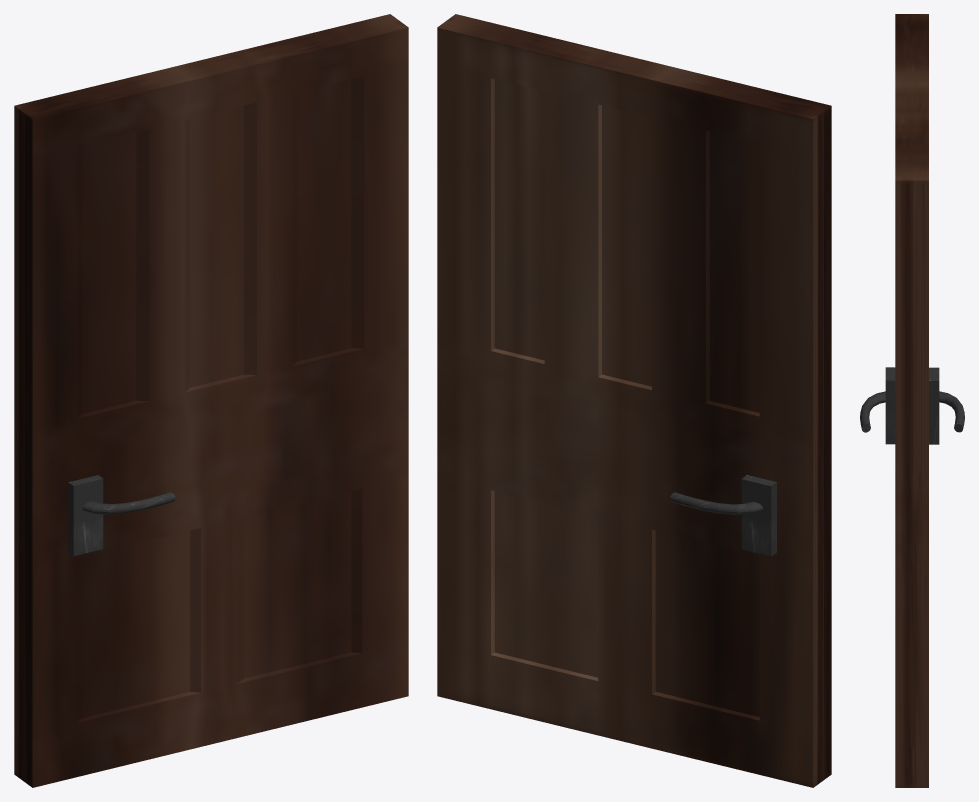
The model's file is Puerta.obj.
3 views of the same model, side by side, from view 1: azimuth 30°, elevation 25°; view 2: azimuth 150°, elevation 25°; view 3: azimuth 270°, elevation 25° (orthographic). The views are drawn at different scales.
Visible parts, largest first — view 1: PuertaFallo_Cube.002_Cube.008, Cube.004_Cube.008, Cylinder_Cylinder.008; view 2: PuertaFallo_Cube.002_Cube.008, Cube.005_Cube.008, Cylinder.001_Cylinder.008; view 3: PuertaFallo_Cube.002_Cube.008, Cube.005_Cube.008, Cube.004_Cube.008, Cylinder.001_Cylinder.008, Cylinder_Cylinder.008.
Boxes of the visible parts, bbox=[...] form: PuertaFallo_Cube.002_Cube.008: bbox=[14, 14, 408, 787]; Cube.004_Cube.008: bbox=[68, 475, 103, 556]; Cylinder_Cylinder.008: bbox=[82, 492, 175, 514]; PuertaFallo_Cube.002_Cube.008: bbox=[437, 14, 831, 787]; Cube.005_Cube.008: bbox=[741, 475, 776, 556]; Cylinder.001_Cylinder.008: bbox=[670, 492, 763, 514]; PuertaFallo_Cube.002_Cube.008: bbox=[895, 14, 928, 787]; Cube.005_Cube.008: bbox=[929, 367, 939, 444]; Cube.004_Cube.008: bbox=[885, 367, 895, 444]; Cylinder.001_Cylinder.008: bbox=[939, 391, 964, 432]; Cylinder_Cylinder.008: bbox=[860, 391, 885, 432].
Size of the model in its own units: 1.31 by 2.22 by 0.3472.
